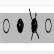correct: (16, 16, 24, 36)
not correct: (28, 7, 40, 42)
